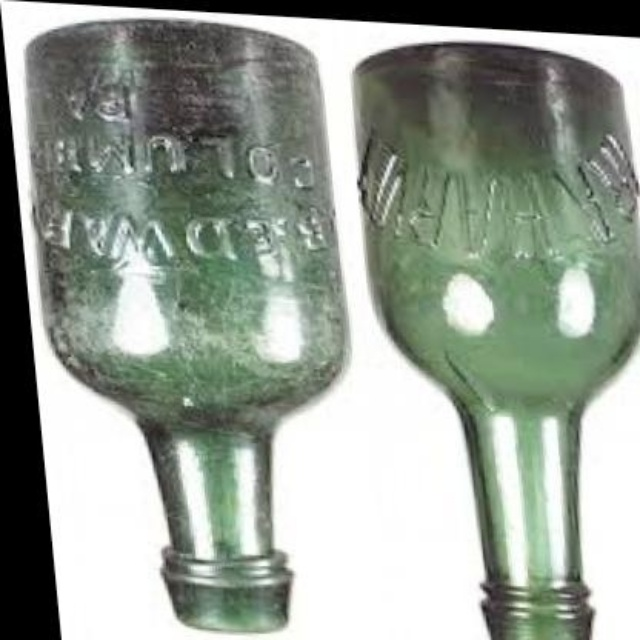trash: (28, 20, 345, 631), (355, 43, 638, 638)
